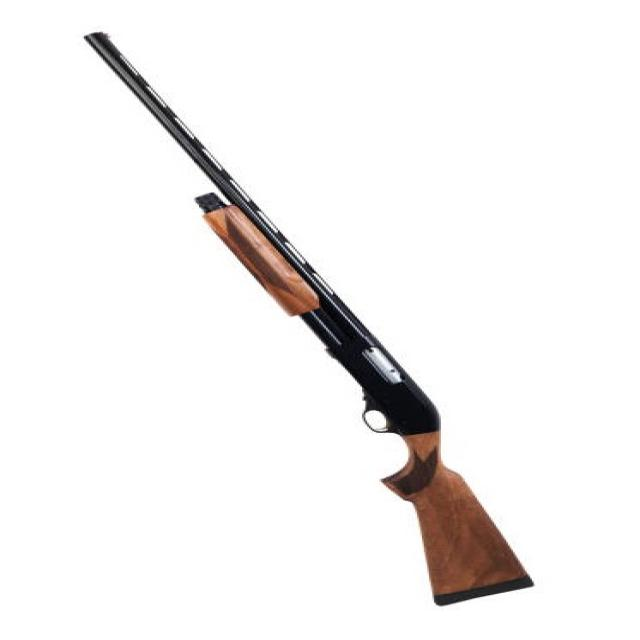rifle: (81, 24, 550, 617)
